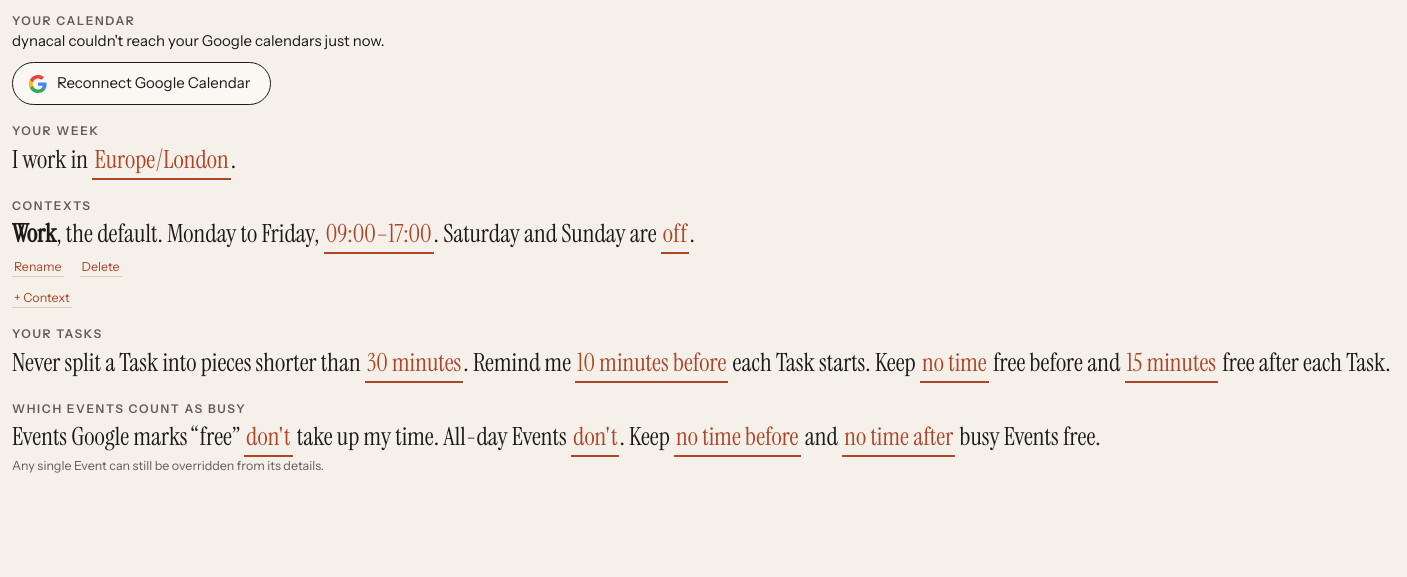
Test case: the setting for split Tasks › reads “Shortest split piece”, and says it's only for Tasks that can be split
What coordinates should you click on to do the following:
click the button "30 minutes"
I would click on:
 (414, 363)
Its box is [365,343,463,383].
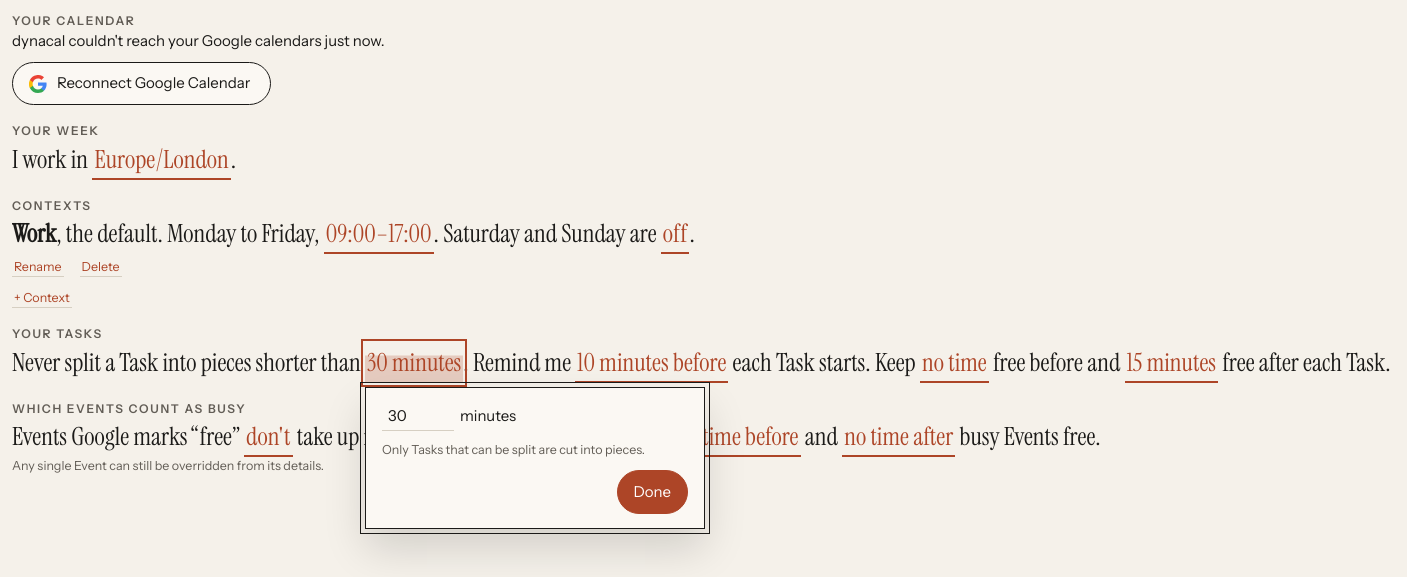
Now the number field named "Shortest split piece" is shown, box [382,402,454,431]
Now the text "Only Tasks that can be split are cut into pieces." is shown, box [382,441,645,460]
